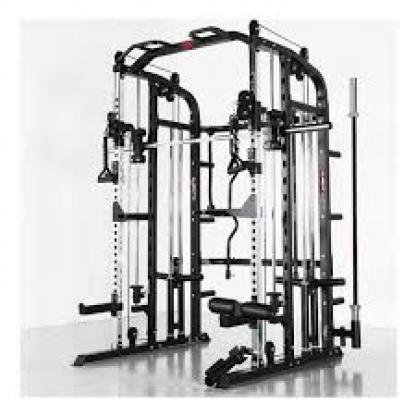smith machine: (74, 19, 361, 390)
